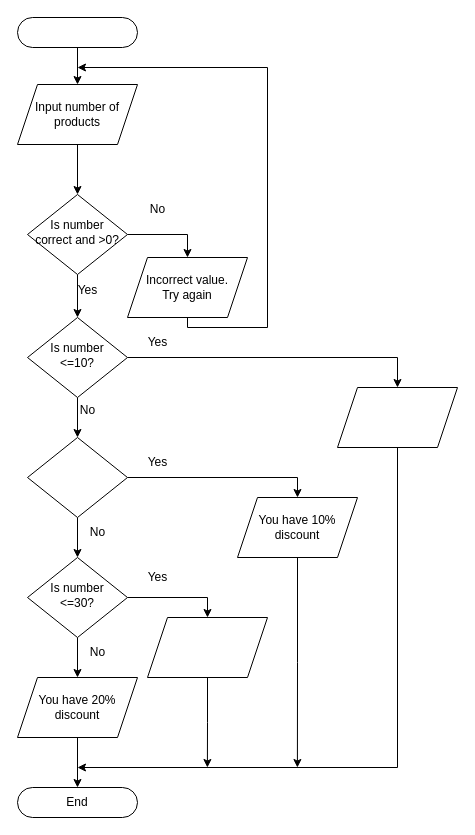
Image size: 475x835. Some labels were removed from this diagram. Here are the shapes that lost their labels. From the top down, the centre of each, then its label:
At [77,32]: "Start".
At [397,417]: "You have 5% discount".
At [77,477]: "Is number <=20?".
At [207,647]: "You have 15% discount".
